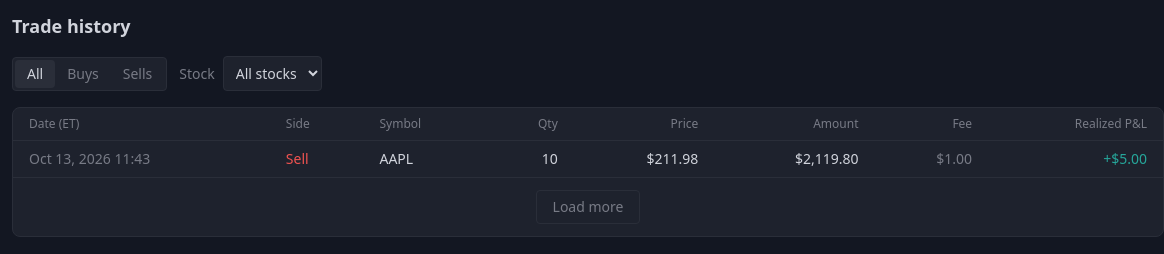
Test: History page › loads the next page with the cursor and appends it
What coordinates should you click on to do the following:
click the button "Load more"
I would click on:
 (588, 207)
Its box is [536,190,640,224].
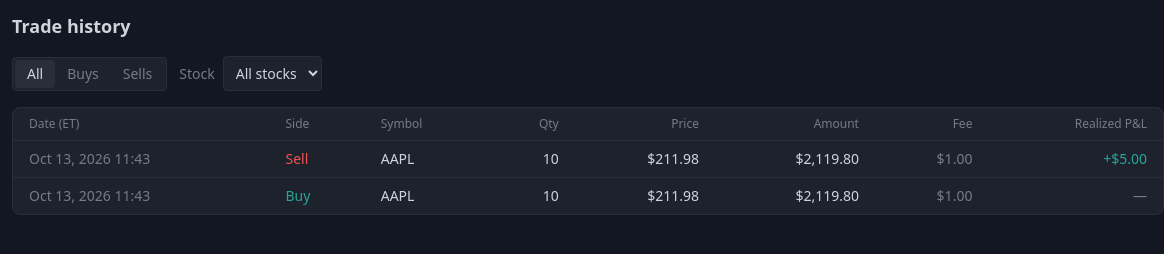
Expected: the number of rows is 3, [13,108,1163,140]; [13,140,1163,178]; [13,178,1163,214]
Expected: the button "Load more" is gone
